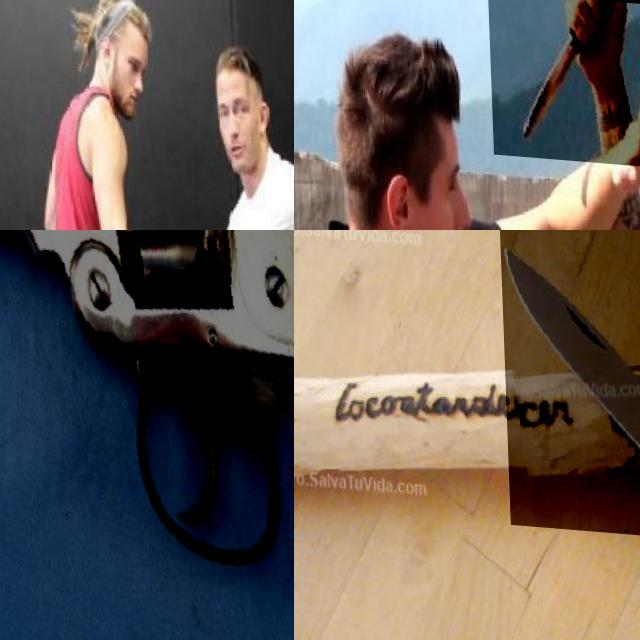-: (499, 230, 640, 533), (488, 0, 640, 158)
gun-knife-thesis - v11 Yolov5 augmented: (0, 230, 294, 640)
